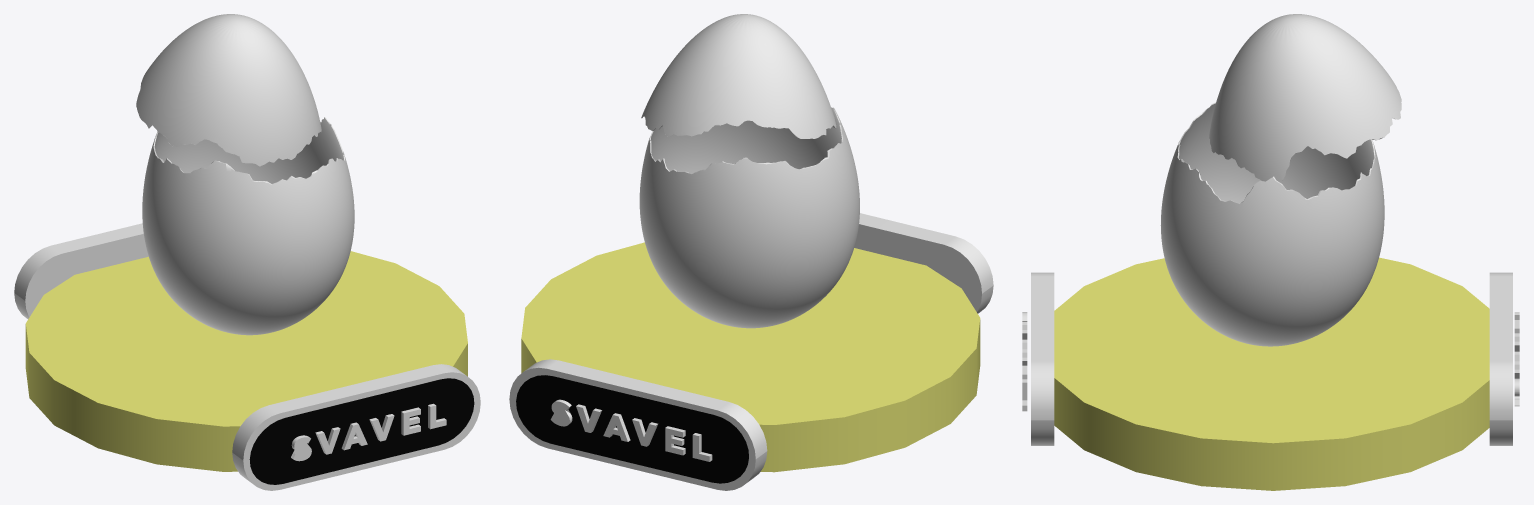
Rendered from whitegg_objectgeo.fbx.
3 views of the same model, side by side, from view 1: azimuth 30°, elevation 25°; view 2: azimuth 150°, elevation 25°; view 3: azimuth 270°, elevation 25° (orthographic). The views are drawn at different scales.
Visible parts, largest first — view 1: platform9_eggs_plaquecolor_geo2; view 2: platform9_eggs_plaquecolor_geo2; view 3: platform9_eggs_plaquecolor_geo2.
Part boxes in pixels (<box>): platform9_eggs_plaquecolor_geo2: <box>14,14,480,490</box>; platform9_eggs_plaquecolor_geo2: <box>509,14,993,490</box>; platform9_eggs_plaquecolor_geo2: <box>1022,14,1519,490</box>.
Size of the model in its own units: 18.1 by 16.16 by 19.25.
